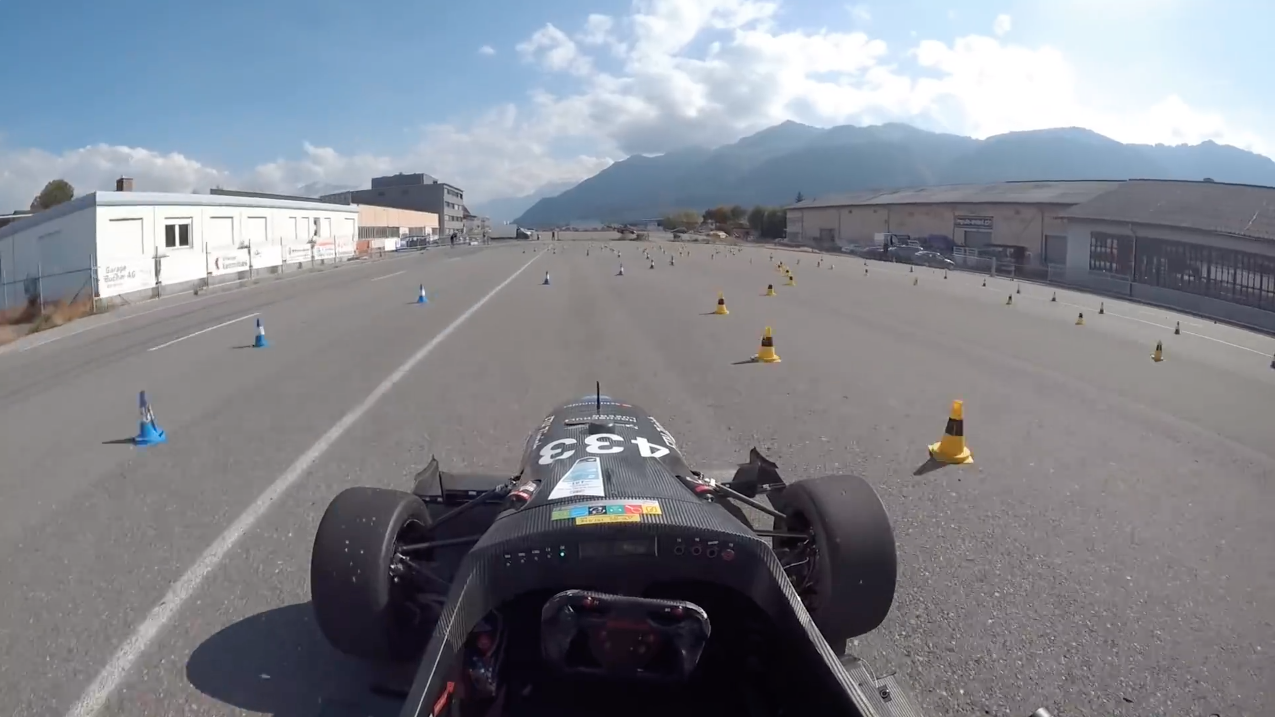lcone: (125, 388, 172, 449), (244, 313, 276, 350)
rcone: (925, 396, 980, 469), (748, 321, 782, 369)
